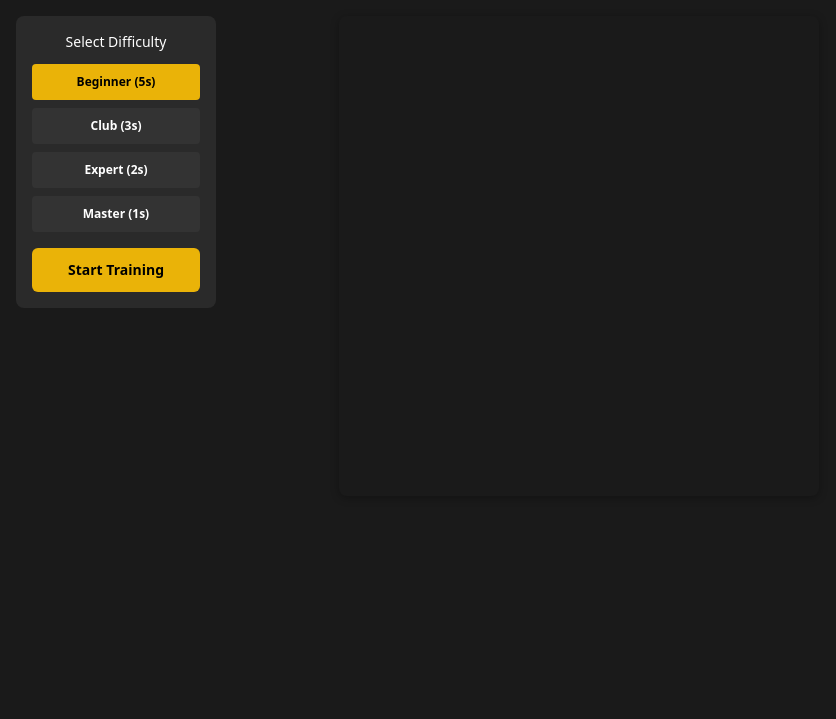
it: CoordinateVisionPage › shows input field and submit button during playing phase
This screenshot has width=836, height=719.
Click the button "Start Training" at {"x": 116, "y": 270}, box 32,248 -> 200,292
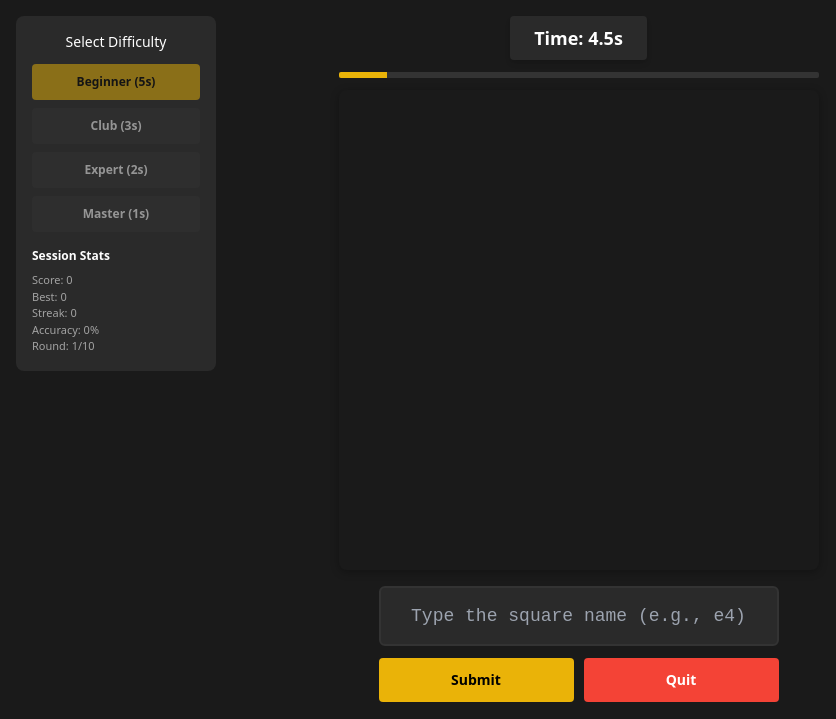
Check: the field with placeholder "Type the square name (e.g., e4)" is shown, box 378,586 -> 778,646
Check: the button "Submit" is shown, box 378,658 -> 574,702
